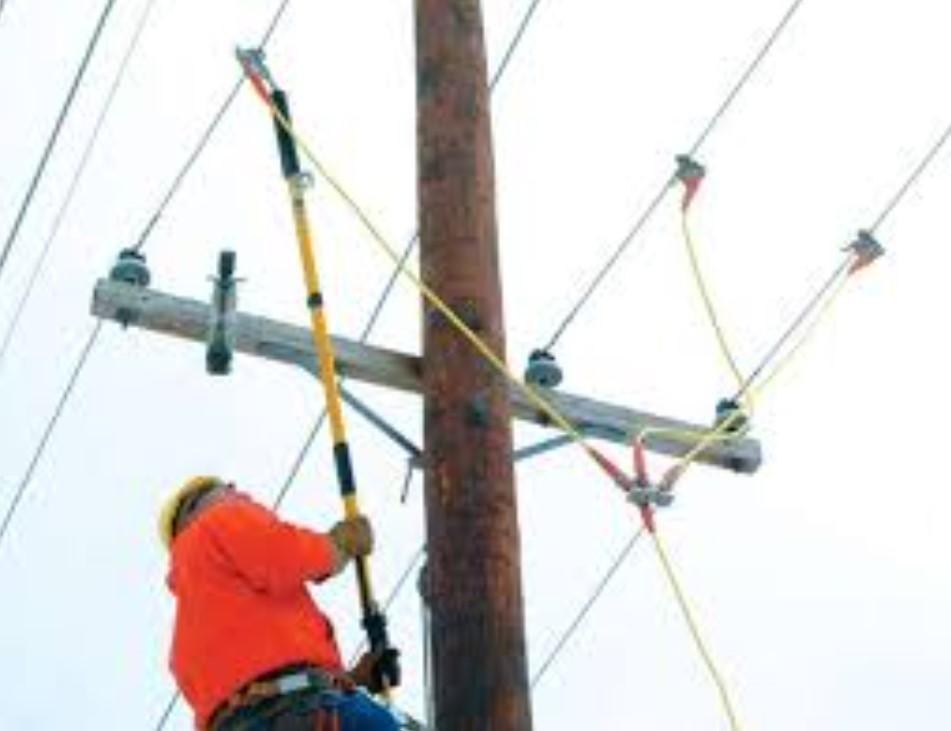Vara_Manobra: (264, 87, 398, 704)
